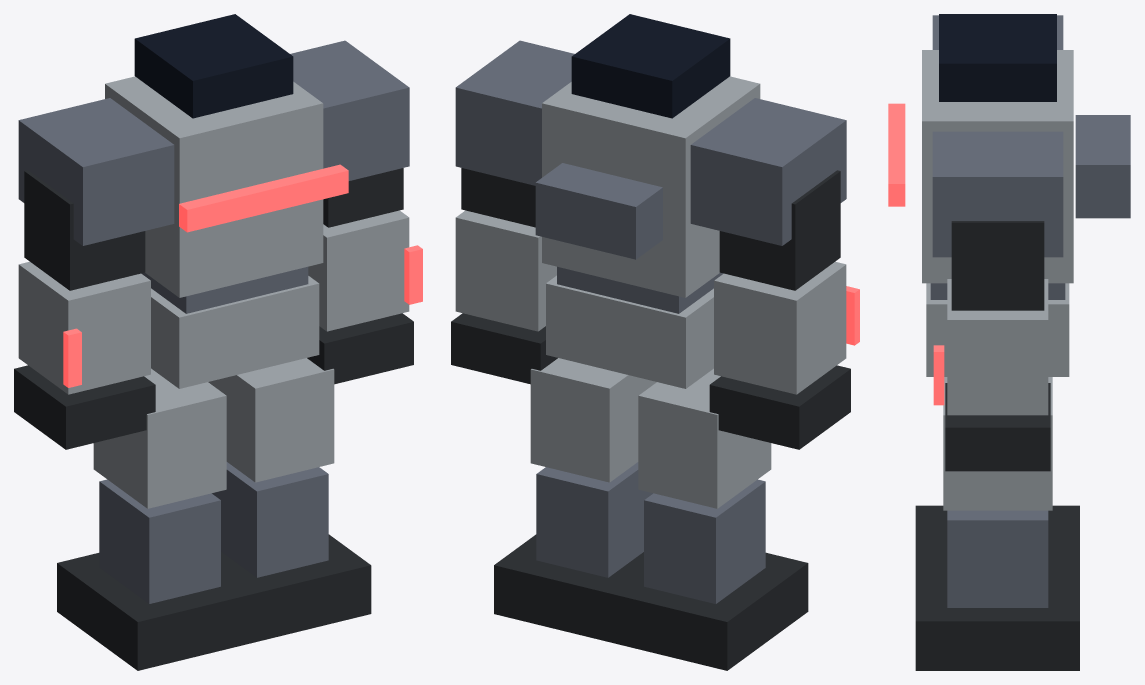
The model's file is gruntbot.glb.
3 views of the same model, side by side, from view 1: azimuth 30°, elevation 25°; view 2: azimuth 150°, elevation 25°; view 3: azimuth 270°, elevation 25° (orthographic).
Size of the model in its own units: 1.98 by 3.01 by 1.15.
